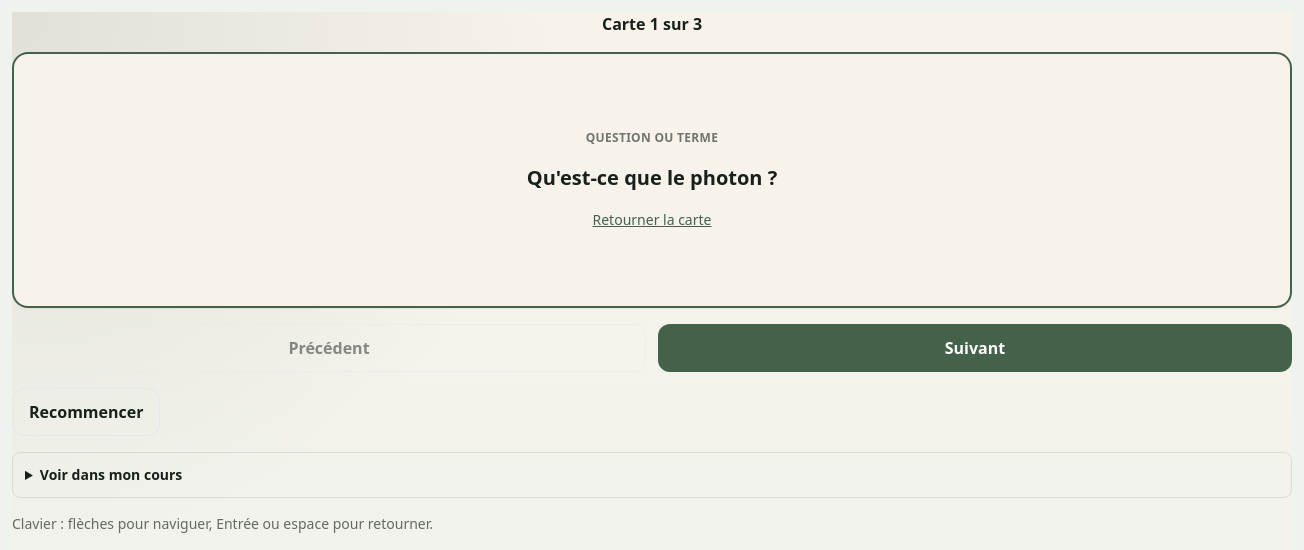
FlashcardDeck › retourne la carte au clic
What coordinates should you click on to do the following:
click the button "Retourner la carte"
I would click on:
 (89, 180)
Its box is top-left (12, 52), bottom-right (1292, 308).
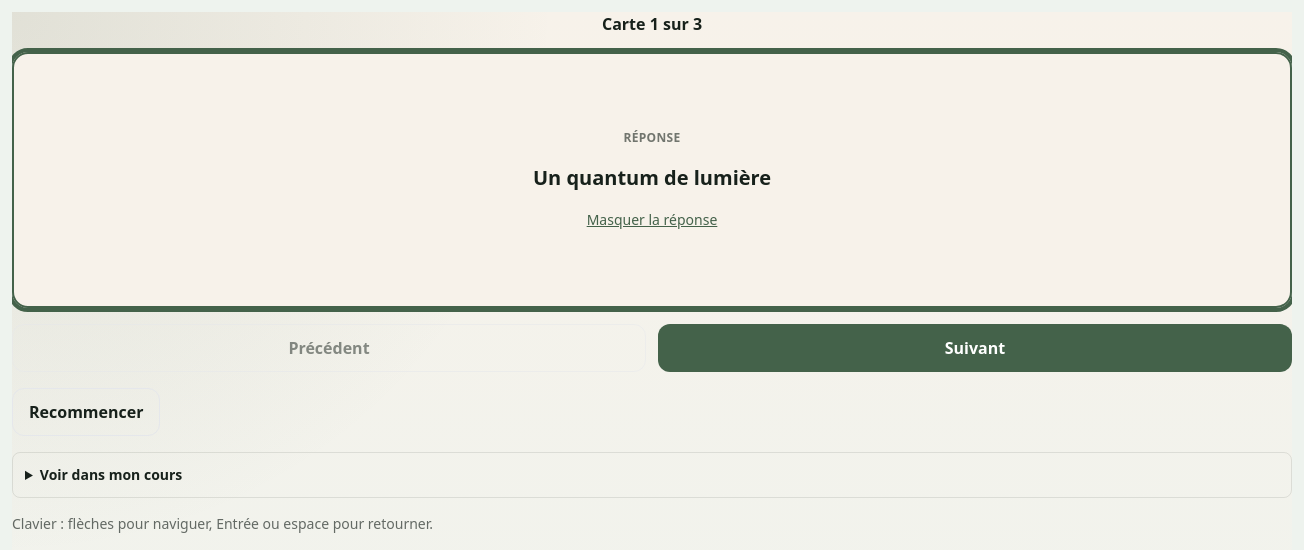
Expected: the text "Un quantum de lumière" is shown, top-left (533, 162), bottom-right (771, 194)
Expected: the text "Réponse" is shown, top-left (624, 129), bottom-right (680, 146)
